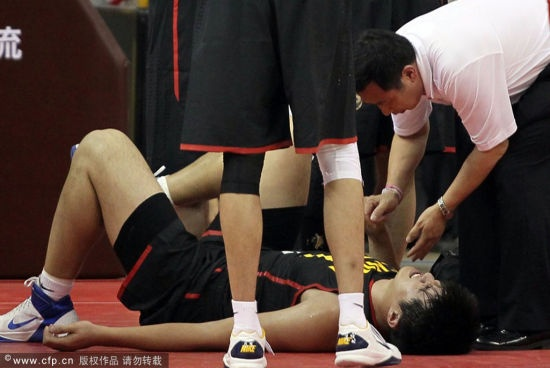falling: (8, 132, 480, 352)
